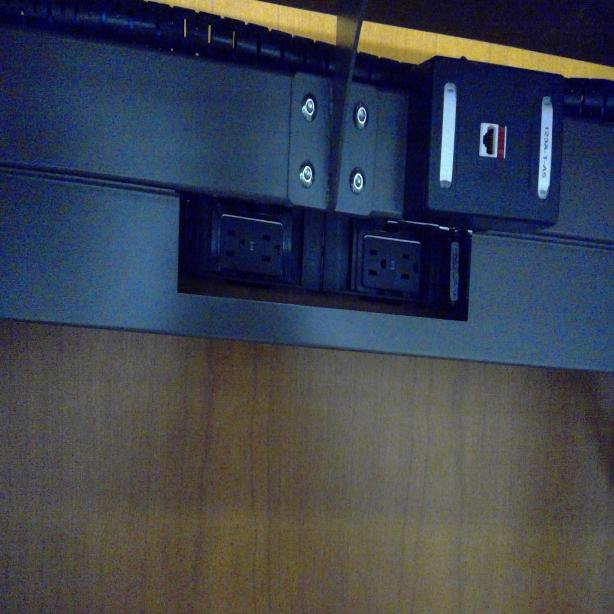typeb: (219, 218, 248, 270), (364, 238, 391, 290), (259, 227, 283, 276), (399, 246, 420, 288)
